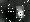person: (17, 7, 25, 19)
